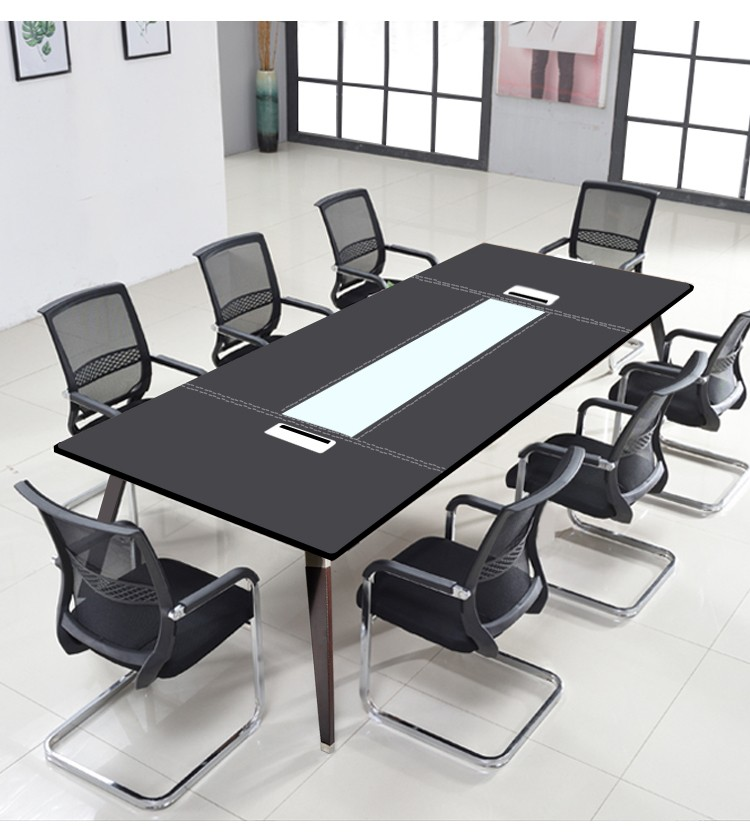conference_table: (53, 247, 695, 754)
